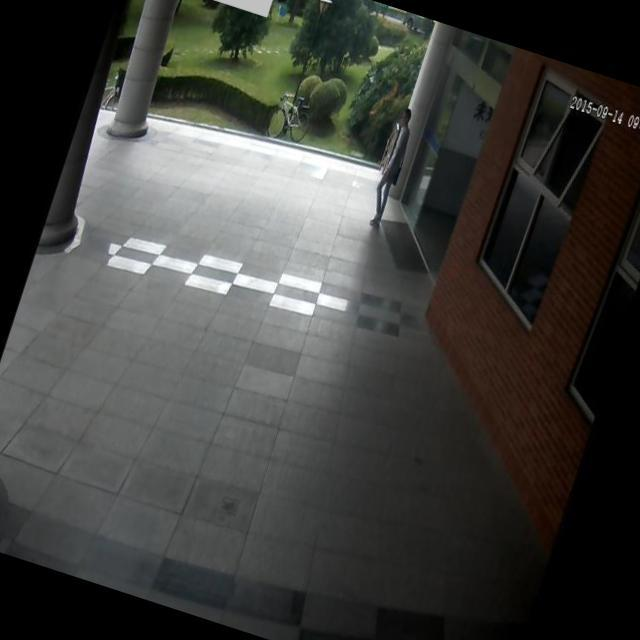person: (362, 103, 425, 235)
